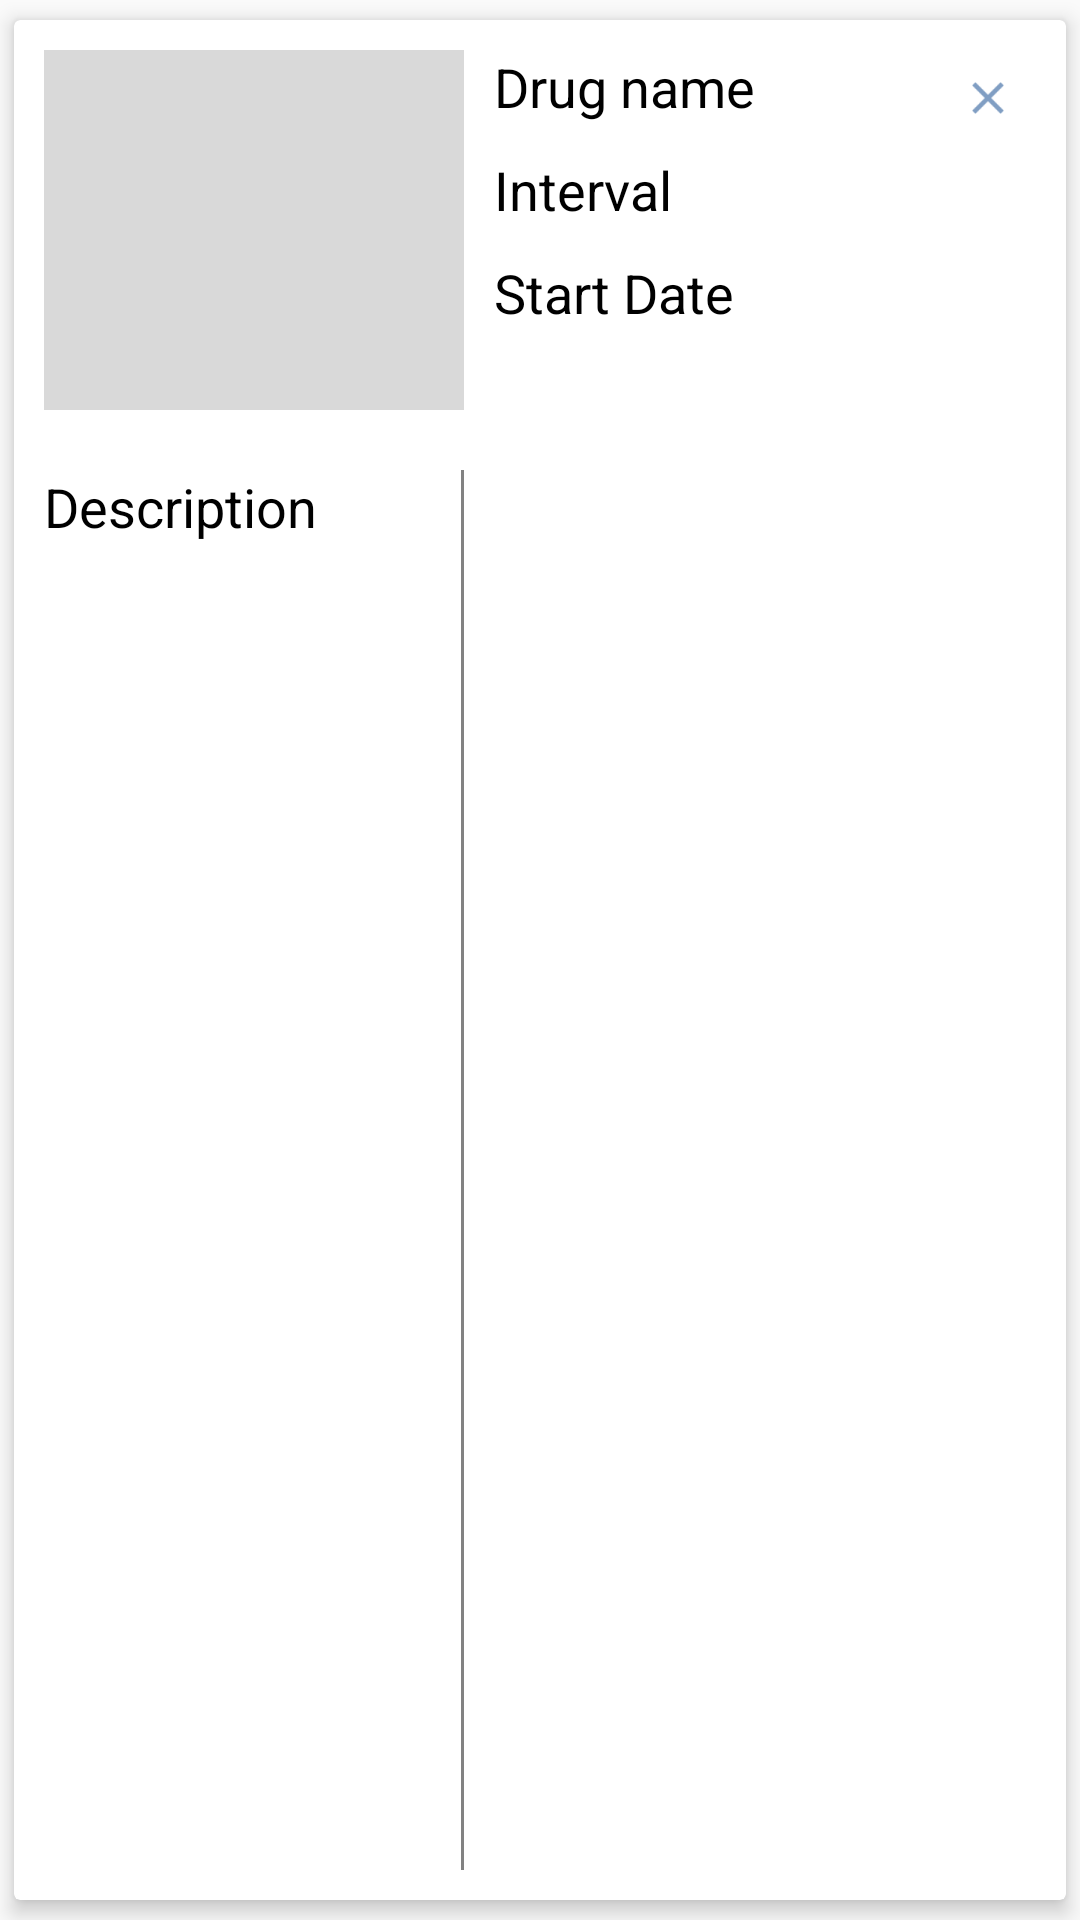

Named icons in this screenshot (1080 × 1920) and their bounding boxes, (x1, y1, x2, y2):
remove: (972, 82, 1004, 114)
